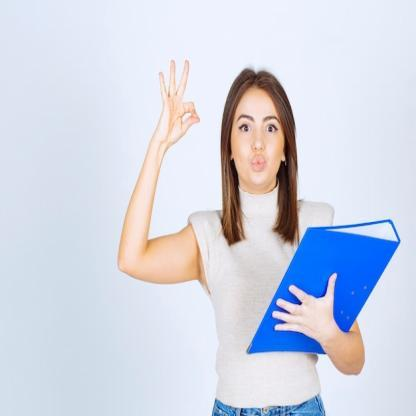ok: (154, 56, 202, 146)
